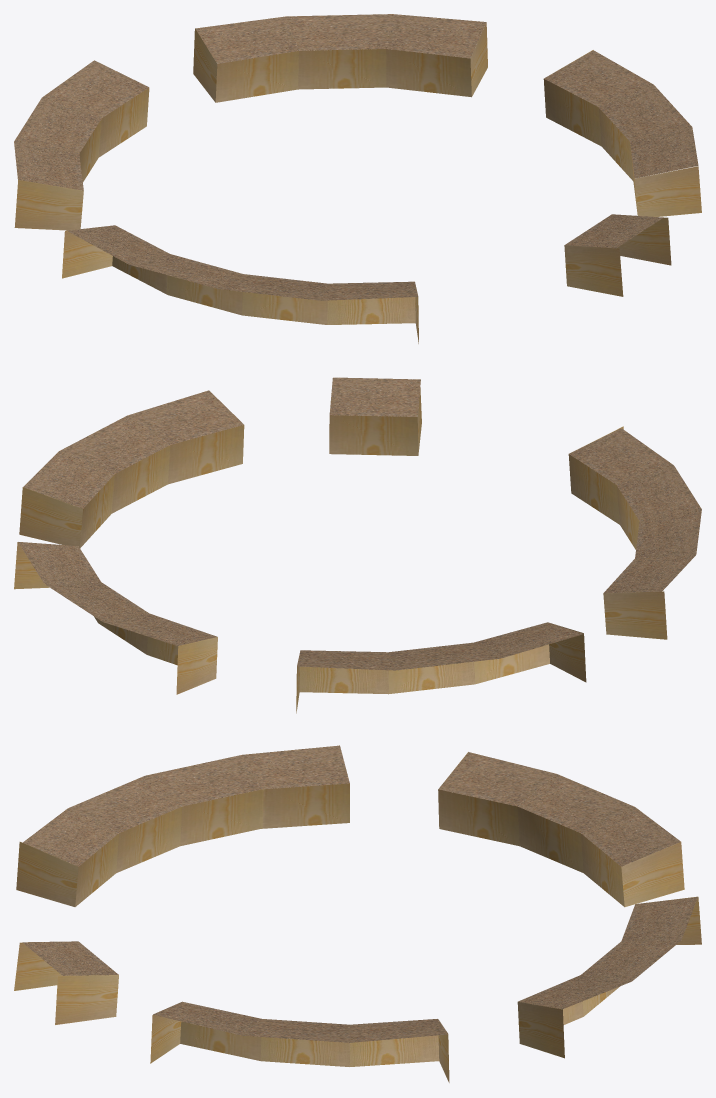
File: PecParB.obj
3 renders of one model, top to bottom at view 1: azimuth 30°, elevation 25°; view 2: azimuth 150°, elevation 25°; view 3: azimuth 270°, elevation 25°, orthographic. The views are drawn at different scales.
Parts seen in each view (by area): view 1: pasted__polySurface2 group; view 2: pasted__polySurface2 group; view 3: pasted__polySurface2 group.
Boxes of the visible parts, x1,y1,x2,y2 form: pasted__polySurface2 group: (14, 14, 701, 343); pasted__polySurface2 group: (14, 377, 701, 713); pasted__polySurface2 group: (14, 745, 701, 1082).
Bounding box in the file's own units: 6.49 × 0.5457 × 6.34.
Materials: 2 (2 with a texture image).
